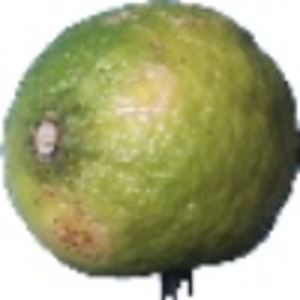limão: (1, 1, 300, 300)
